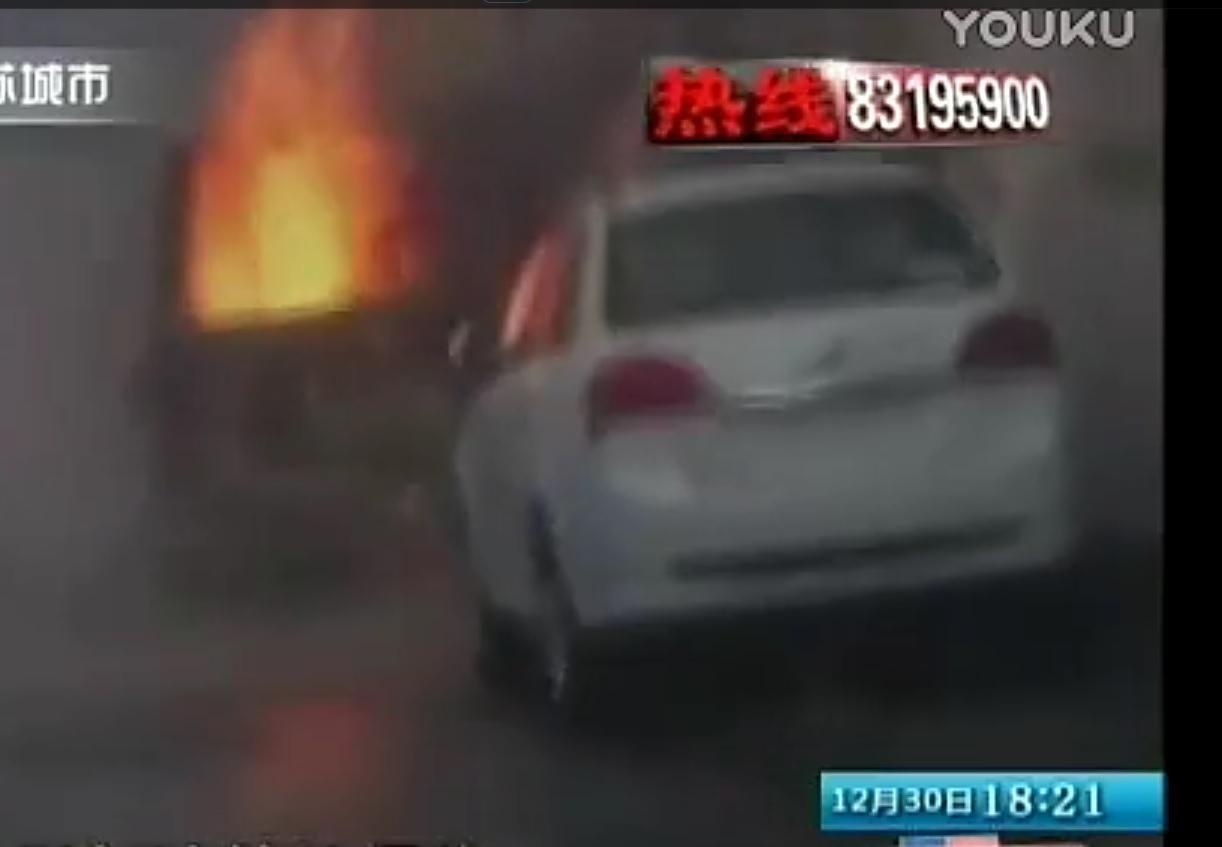fire: (173, 26, 420, 334)
